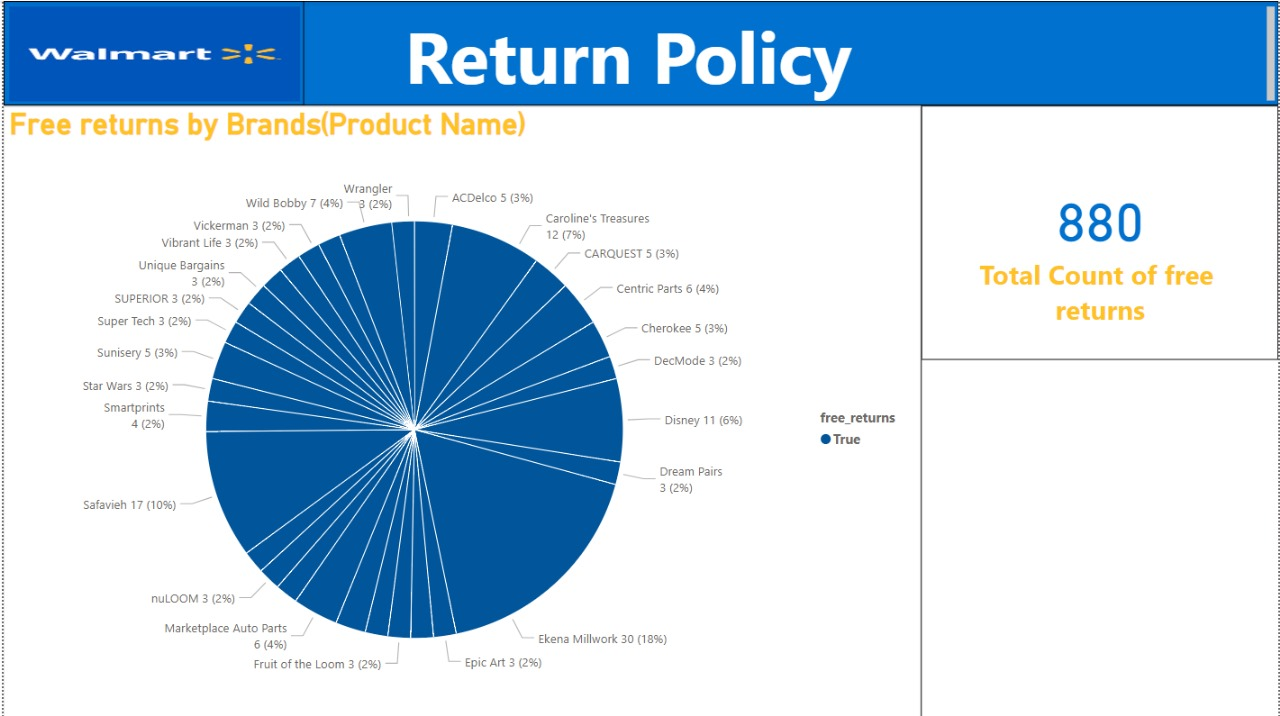

Layout of this report page (visuals, bound fields, positions):
{"tool":"powerbi","page":{"name":"Return Policy","canvas":[1280,720],"ordinal":3},"visuals":[{"type":"pieChart","title":"Free returns by Brands(Product Name)","fields":{"Category":["Walmart products dataset.free_returns"],"Series":["Walmart products dataset.brand"],"Y":["CountNonNull(Walmart products dataset.product_name)"]},"box":[0,105,921.7,615],"z":0},{"type":"card","fields":{"Values":["CountNonNull(Walmart products dataset.free_returns)"]},"box":[921.7,105,358.3,255],"z":1000},{"type":"textbox","box":[0,0,1280,105],"z":2000},{"type":"image","box":[0,0,301.7,105],"z":3000}]}

Visuals, with their boxes in screenshot pixels (x1, y1, x2, y2), scaled from the page's 1280x720 canvas onto the 1280x716 screenshot:
"Free returns by Brands(Product Name)" pieChart: BBox(0, 104, 922, 715)
card - CountNonNull(Walmart products dataset.free_returns): BBox(922, 104, 1279, 358)
textbox: BBox(0, 0, 1279, 104)
image: BBox(0, 0, 302, 104)
